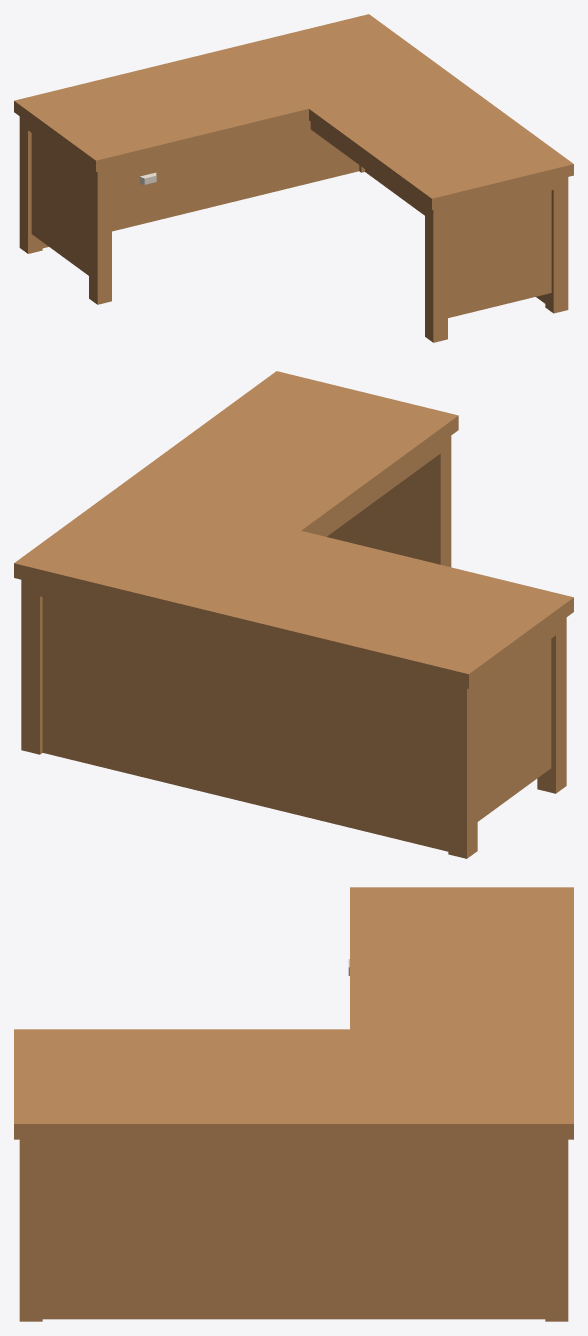
File: kitDeskCorner.glb
3 views of the same model, one above another, from view 1: azimuth 30°, elevation 25°; view 2: azimuth 150°, elevation 25°; view 3: azimuth 270°, elevation 25° (orthographic). The views are drawn at different scales.
Visible parts, largest first — view 1: kitDeskCorner_wood; view 2: kitDeskCorner_wood; view 3: kitDeskCorner_wood.
Boxes of the visible parts, <box> form: kitDeskCorner_wood: <box>14,14,573,342</box>; kitDeskCorner_wood: <box>14,371,573,858</box>; kitDeskCorner_wood: <box>14,887,573,1321</box>.
Size of the model in its own units: 1.95 by 0.7688 by 1.95.
